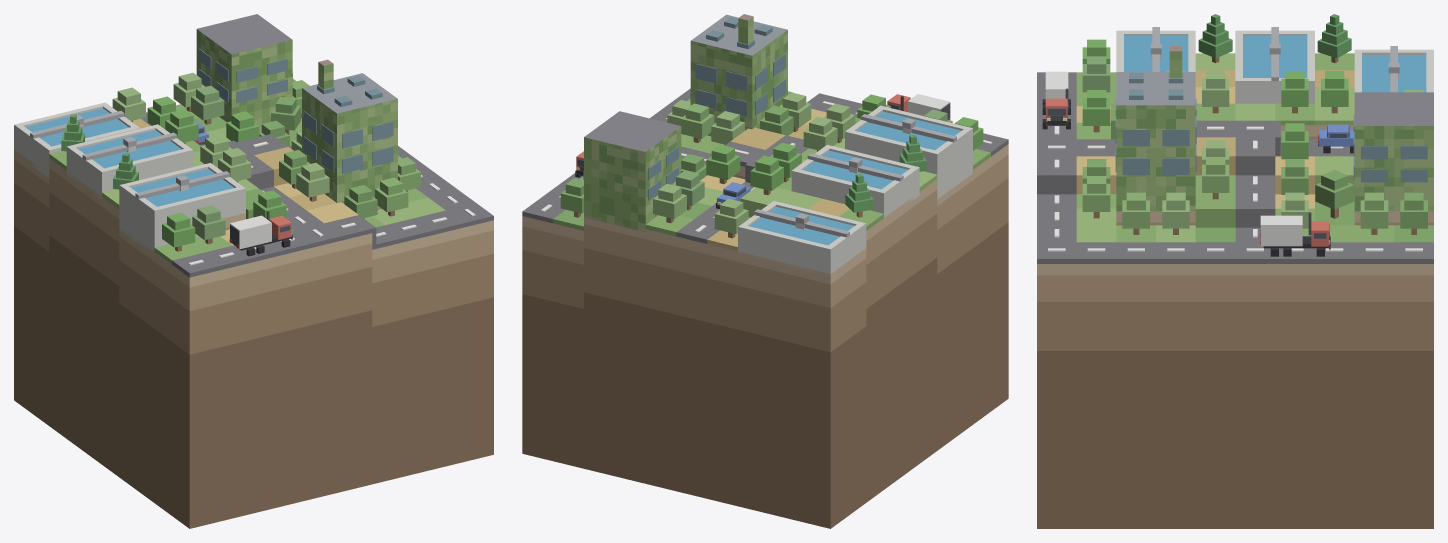
File: block_12_greenfacade_20.glb
3 renders of one model, left to right at view 1: azimuth 30°, elevation 25°; view 2: azimuth 150°, elevation 25°; view 3: azimuth 270°, elevation 25°, orthographic. The views are drawn at different scales.
Parts seen in each view (by area): view 1: Patch_LowerLeft_b11_GF, Factories_LowerLeft_b11_GF, Tanks_LowerLeft_GF, Roads_LowerLeft_b11_GF, Ground_LowerLeft_b11_GF, Asset_Truck.006_GF, Asset_Tree_Round.103_GF, Asset_Tree_Round.075_GF, Asset_Tree_Round.106_GF, Asset_Tree_Round.107_GF, Asset_Tree_Round.110_GF, Asset_Tree_Round.100_GF (+14 smaller); view 2: Patch_LowerLeft_b11_GF, Tanks_LowerLeft_GF, Factories_LowerLeft_b11_GF, Ground_LowerLeft_b11_GF, Roads_LowerLeft_b11_GF, Asset_Truck.006_GF, Asset_Tree_Round.081_GF, Asset_Tree_Round.073_GF, Asset_Tree_Round.078_GF, Asset_Tree_Round.092_GF, Asset_Tree_Round.072_GF, Asset_Tree_Round.090_GF (+9 smaller); view 3: Patch_LowerLeft_b11_GF, Factories_LowerLeft_b11_GF, Roads_LowerLeft_b11_GF, Ground_LowerLeft_b11_GF, Tanks_LowerLeft_GF, Asset_Truck.005_GF, RoadLines_LowerLeft_b11_GF, Asset_Truck.006_GF, Asset_Tree_Round.059_GF, Asset_Tree_Pine.001_GF, Asset_Tree_Pine.003_GF, Asset_Tree_Round.076_GF (+17 smaller).
Boxes of the visible parts, bbox=[...] form: Patch_LowerLeft_b11_GF: bbox=[14, 126, 493, 528]; Factories_LowerLeft_b11_GF: bbox=[196, 14, 397, 203]; Tanks_LowerLeft_GF: bbox=[14, 102, 245, 252]; Roads_LowerLeft_b11_GF: bbox=[141, 112, 493, 277]; Ground_LowerLeft_b11_GF: bbox=[49, 104, 445, 264]; Asset_Truck.006_GF: bbox=[229, 211, 292, 256]; Asset_Tree_Round.103_GF: bbox=[296, 162, 329, 201]; Asset_Tree_Round.075_GF: bbox=[191, 85, 224, 124]; Asset_Tree_Round.106_GF: bbox=[162, 212, 195, 251]; Asset_Tree_Round.107_GF: bbox=[192, 205, 225, 244]; Asset_Tree_Round.110_GF: bbox=[375, 177, 408, 216]; Asset_Tree_Round.100_GF: bbox=[218, 148, 251, 182]; Patch_LowerLeft_b11_GF: bbox=[522, 144, 1008, 528]; Tanks_LowerLeft_GF: bbox=[738, 105, 972, 275]; Factories_LowerLeft_b11_GF: bbox=[584, 14, 787, 232]; Ground_LowerLeft_b11_GF: bbox=[553, 108, 990, 251]; Roads_LowerLeft_b11_GF: bbox=[522, 88, 1008, 243]; Asset_Truck.006_GF: bbox=[887, 94, 950, 120]; Asset_Tree_Round.081_GF: bbox=[706, 144, 740, 184]; Asset_Tree_Round.073_GF: bbox=[653, 183, 686, 223]; Asset_Tree_Round.078_GF: bbox=[750, 155, 783, 195]; Asset_Tree_Round.092_GF: bbox=[680, 103, 714, 142]; Asset_Tree_Round.072_GF: bbox=[714, 198, 748, 238]; Asset_Tree_Round.090_GF: bbox=[803, 116, 837, 151]; Patch_LowerLeft_b11_GF: bbox=[1037, 125, 1433, 528]; Factories_LowerLeft_b11_GF: bbox=[1115, 46, 1433, 211]; Roads_LowerLeft_b11_GF: bbox=[1037, 72, 1433, 263]; Ground_LowerLeft_b11_GF: bbox=[1076, 53, 1433, 242]; Tanks_LowerLeft_GF: bbox=[1116, 27, 1433, 103]; Asset_Truck.005_GF: bbox=[1260, 212, 1330, 256]; RoadLines_LowerLeft_b11_GF: bbox=[1048, 126, 1422, 251]; Asset_Truck.006_GF: bbox=[1042, 71, 1070, 129]; Asset_Tree_Round.059_GF: bbox=[1315, 169, 1354, 218]; Asset_Tree_Pine.001_GF: bbox=[1198, 14, 1232, 63]; Asset_Tree_Pine.003_GF: bbox=[1317, 14, 1351, 62]; Asset_Tree_Round.076_GF: bbox=[1360, 192, 1388, 234].
Size of the model in its own units: 9.5 by 11.13 by 9.5.
